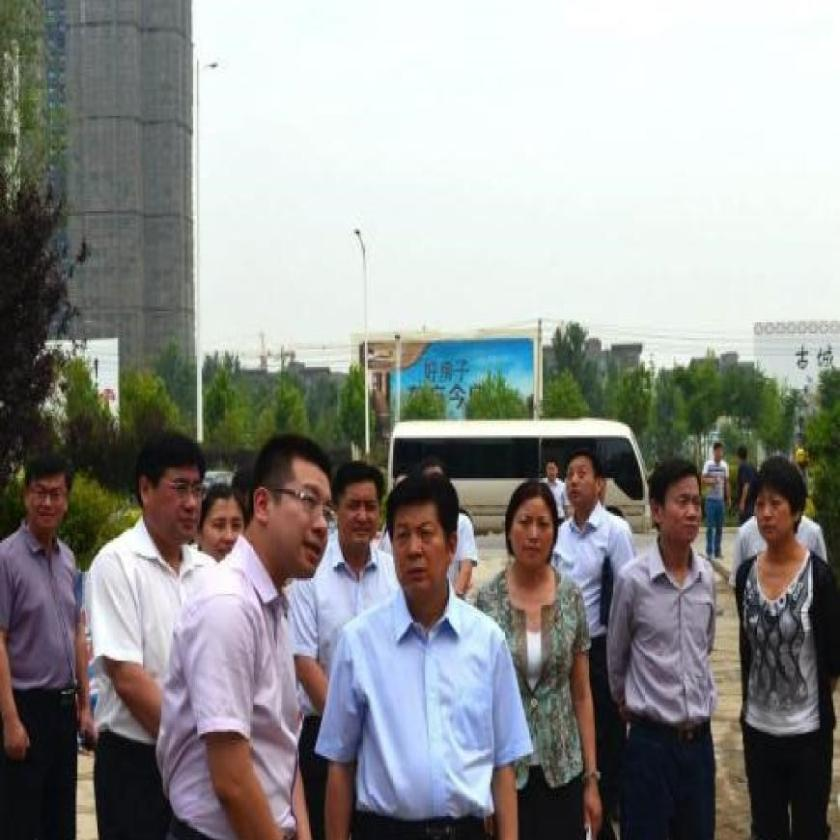Sin_casco: (250, 429, 335, 597), (388, 470, 460, 614), (135, 426, 201, 551), (648, 457, 708, 562), (748, 451, 804, 558), (329, 462, 384, 562), (509, 481, 560, 577), (21, 447, 75, 537), (566, 448, 610, 522)
